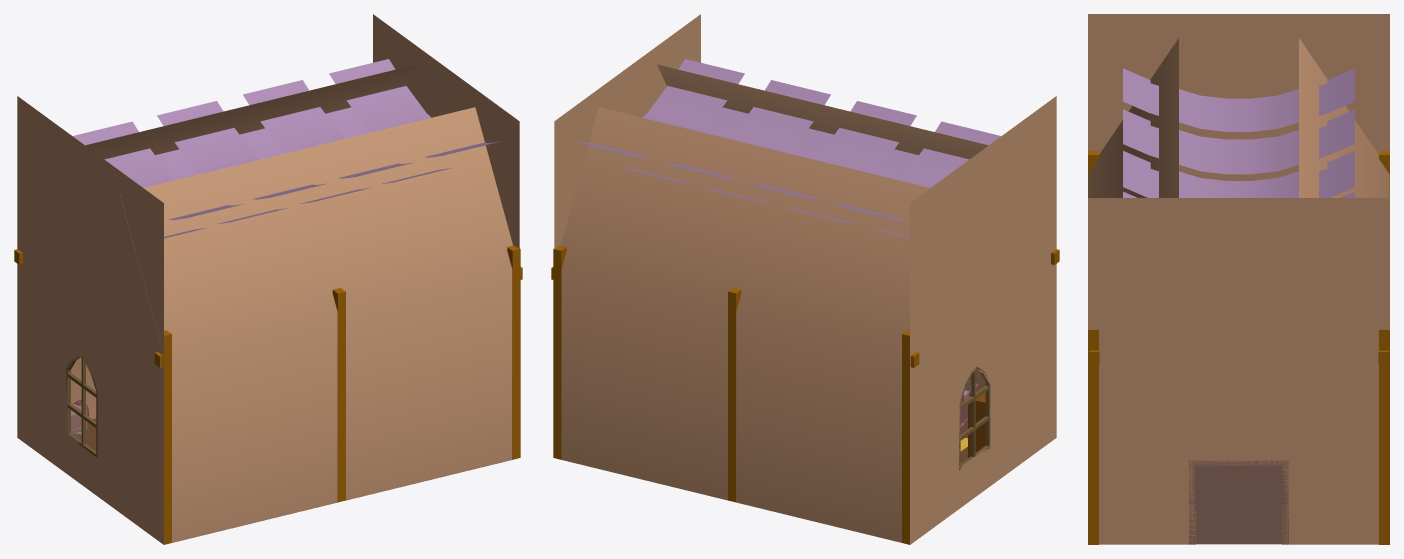
File: RestRoomTextured.fbx
The picture shows the model from 3 angles, left to right: view 1: azimuth 30°, elevation 25°; view 2: azimuth 150°, elevation 25°; view 3: azimuth 270°, elevation 25°; orthographic projection. The views are drawn at different scales.
Parts seen in each view (by area): view 1: Wall_L, Wall_Back, Wall_DoorOpening2, Wall_R, Ceiling_Cloth6, Ceiling_Cloth4, Ceiling_Cloth5, Wall_Frame (×2), Ceiling_Cloth7, Wall_Frame2, Wall_Frame1, Ceiling_Cloth3 (+2 smaller); view 2: Wall_R, Wall_Back, Wall_DoorOpening2, Wall_L, Ceiling_Cloth6, Ceiling_Cloth4, Ceiling_Cloth5, Wall_Frame (×2), Ceiling_Cloth7, Wall_Frame2, Wall_Frame1, Ceiling_Cloth3 (+3 smaller); view 3: Wall_DoorOpening2, Wall_Back, Door_L1 (×2), Ceiling_Cloth7, Ceiling_Cloth6, Wall_L, Wall_R, Wall_Frame2 (×2), Ceiling_Cloth5, DoorFrame, Ceiling_Cloth2, Ceiling_Cloth1 (+1 smaller).
Part boxes in pixels (<box>): Wall_L: <box>120,107,512,542</box>; Wall_Back: <box>17,96,163,544</box>; Wall_DoorOpening2: <box>373,14,519,248</box>; Wall_R: <box>20,64,416,419</box>; Ceiling_Cloth6: <box>157,101,328,199</box>; Ceiling_Cloth4: <box>329,59,499,157</box>; Ceiling_Cloth5: <box>243,80,413,178</box>; Wall_Frame (×2): <box>66,330,171,544</box>; Ceiling_Cloth7: <box>73,121,243,220</box>; Wall_Frame2: <box>507,245,520,459</box>; Wall_Frame1: <box>332,288,345,502</box>; Ceiling_Cloth3: <box>325,107,450,184</box>; Wall_R: <box>561,107,953,542</box>; Wall_Back: <box>910,96,1056,544</box>; Wall_DoorOpening2: <box>554,14,700,248</box>; Wall_L: <box>657,64,1053,390</box>; Ceiling_Cloth6: <box>745,101,916,199</box>; Ceiling_Cloth4: <box>574,59,744,157</box>; Ceiling_Cloth5: <box>660,80,830,178</box>; Wall_Frame (×2): <box>902,330,990,544</box>; Ceiling_Cloth7: <box>831,121,1000,220</box>; Wall_Frame2: <box>553,245,566,459</box>; Wall_Frame1: <box>728,288,741,502</box>; Ceiling_Cloth3: <box>621,107,748,184</box>; Wall_DoorOpening2: <box>1088,198,1389,544</box>; Wall_Back: <box>1088,14,1389,180</box>; Door_L1 (×2): <box>1196,466,1281,543</box>; Ceiling_Cloth7: <box>1123,71,1354,131</box>; Ceiling_Cloth6: <box>1123,114,1354,174</box>; Wall_L: <box>1088,38,1178,197</box>; Wall_R: <box>1299,38,1389,197</box>; Wall_Frame2 (×2): <box>1088,329,1389,544</box>; Ceiling_Cloth5: <box>1123,157,1354,197</box>; DoorFrame: <box>1189,460,1288,544</box>; Ceiling_Cloth2: <box>1123,151,1354,187</box>; Ceiling_Cloth1: <box>1123,109,1354,143</box>.
Bounding box in the file's own units: 1000 × 902 × 700.
